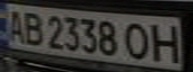2: (42, 11, 66, 51)
3: (78, 16, 100, 55), (60, 15, 81, 53)
8: (96, 18, 121, 57)
A: (0, 6, 30, 43)
B: (18, 9, 48, 46)
H: (145, 20, 187, 64)
O: (121, 20, 154, 61)
